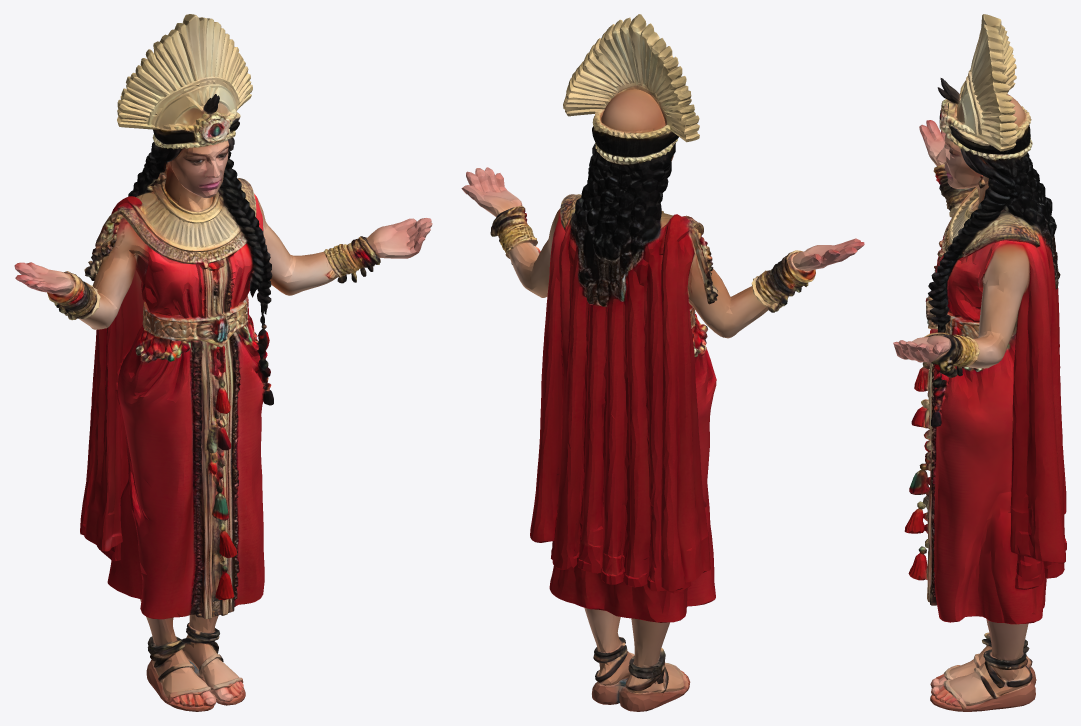
File: high_priestess_ishtar_rodin_source.glb
3 renders of one model, left to right at view 1: azimuth 30°, elevation 25°; view 2: azimuth 150°, elevation 25°; view 3: azimuth 270°, elevation 25°, orthographic.
Visible parts, largest first — view 1: model; view 2: model; view 3: model.
Part boxes in pixels (x1,y1,x2,y2): model: (14, 14, 432, 711); model: (461, 14, 864, 711); model: (893, 14, 1066, 711).
Bounding box in the file's own units: 1.18 × 1.9 × 0.4393.
Materials: 1 (1 with a texture image).
